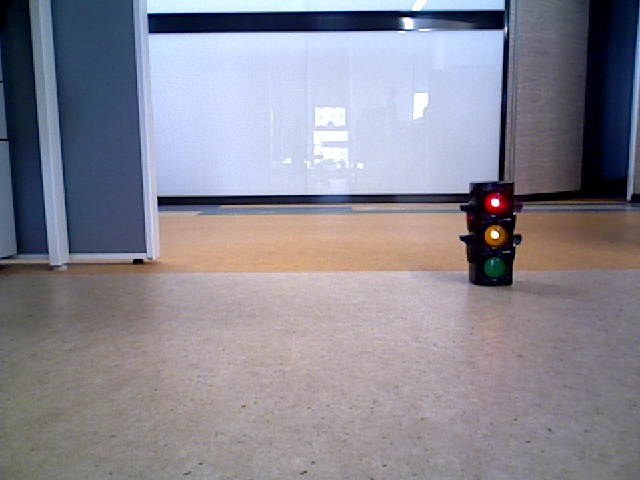red: (471, 184, 506, 286)
